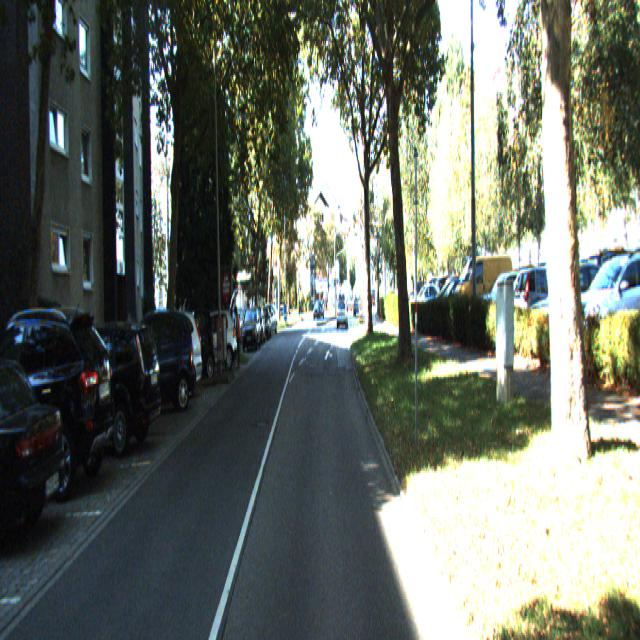Car: (0, 307, 114, 504), (38, 320, 161, 470), (0, 356, 72, 569), (107, 309, 194, 425), (187, 309, 238, 375), (176, 313, 214, 383), (242, 307, 260, 355)
